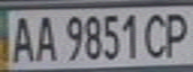1: (118, 10, 142, 61)
5: (100, 11, 124, 61)
8: (81, 11, 106, 61)
9: (60, 11, 84, 62)
A: (6, 12, 36, 64), (30, 11, 57, 63)
C: (139, 9, 172, 60)
P: (160, 8, 193, 59)
